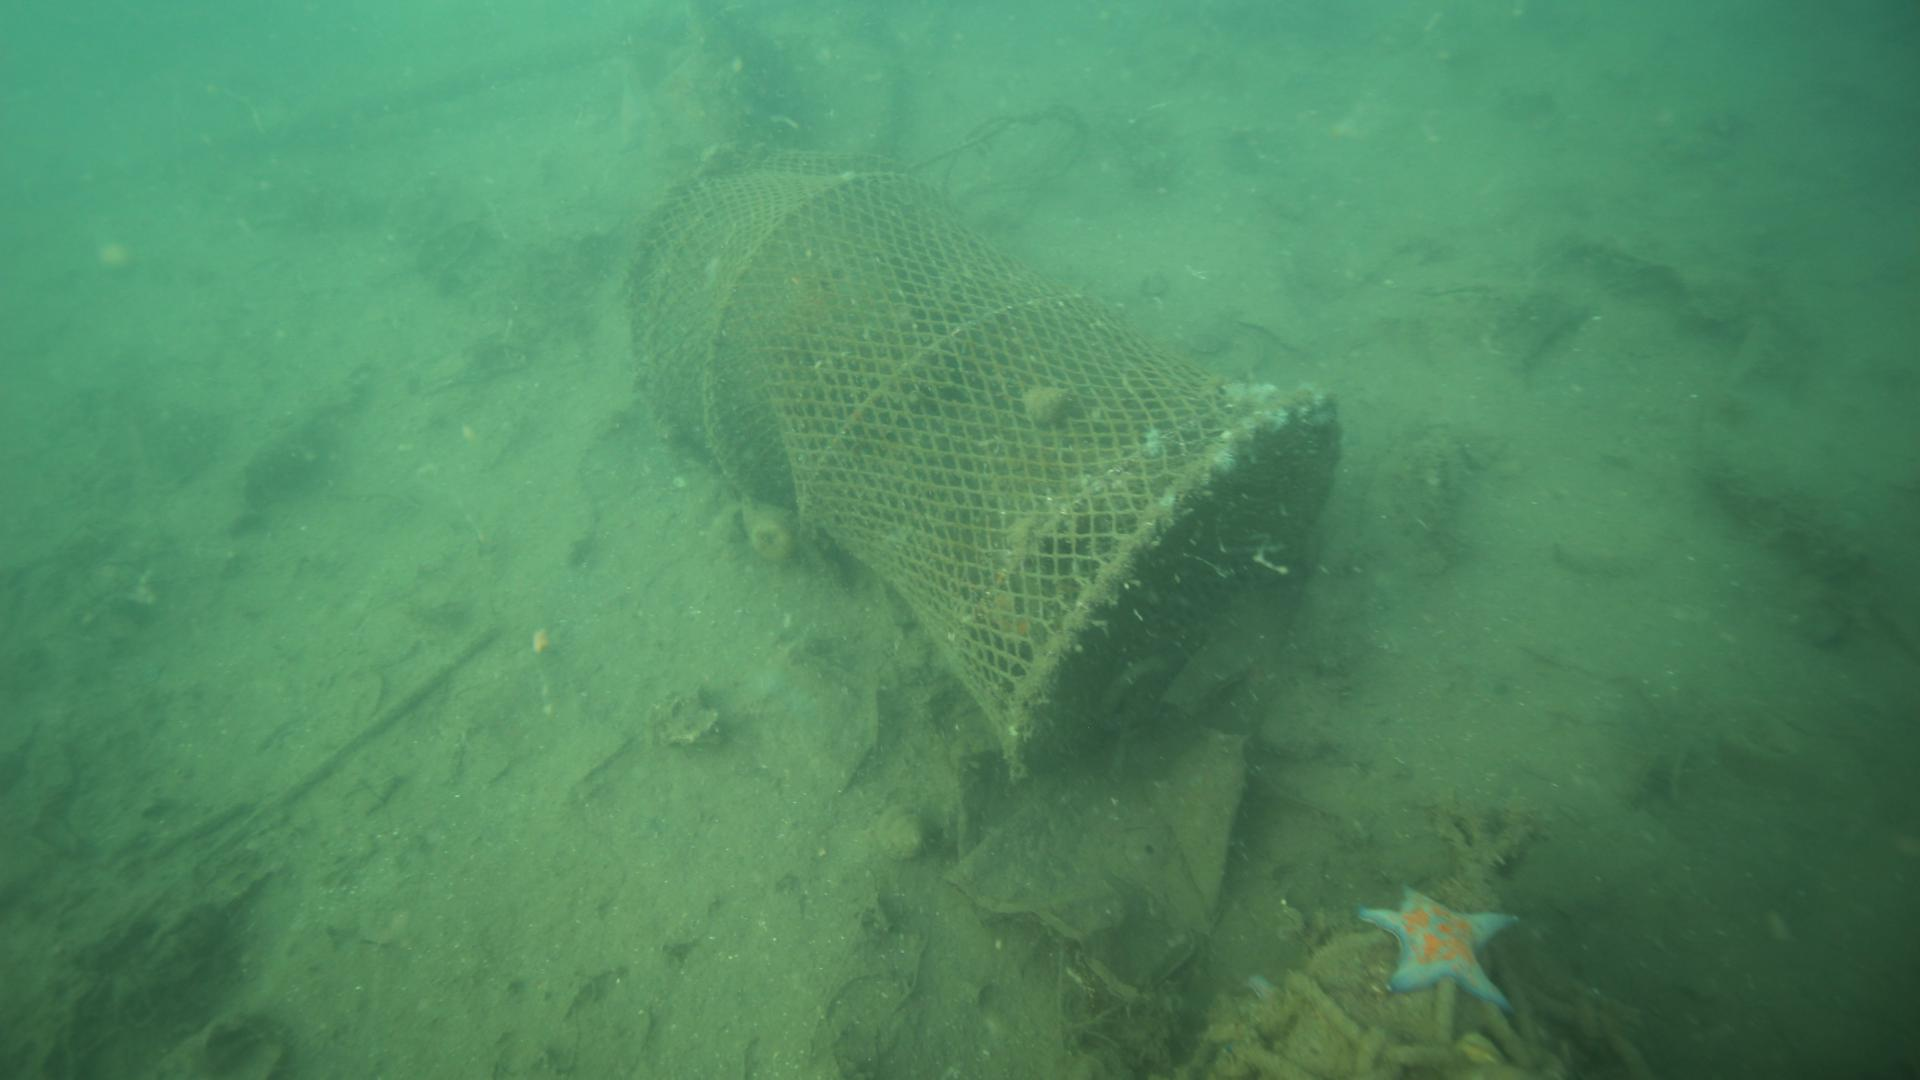spring fish trap: (621, 145, 1338, 789)
